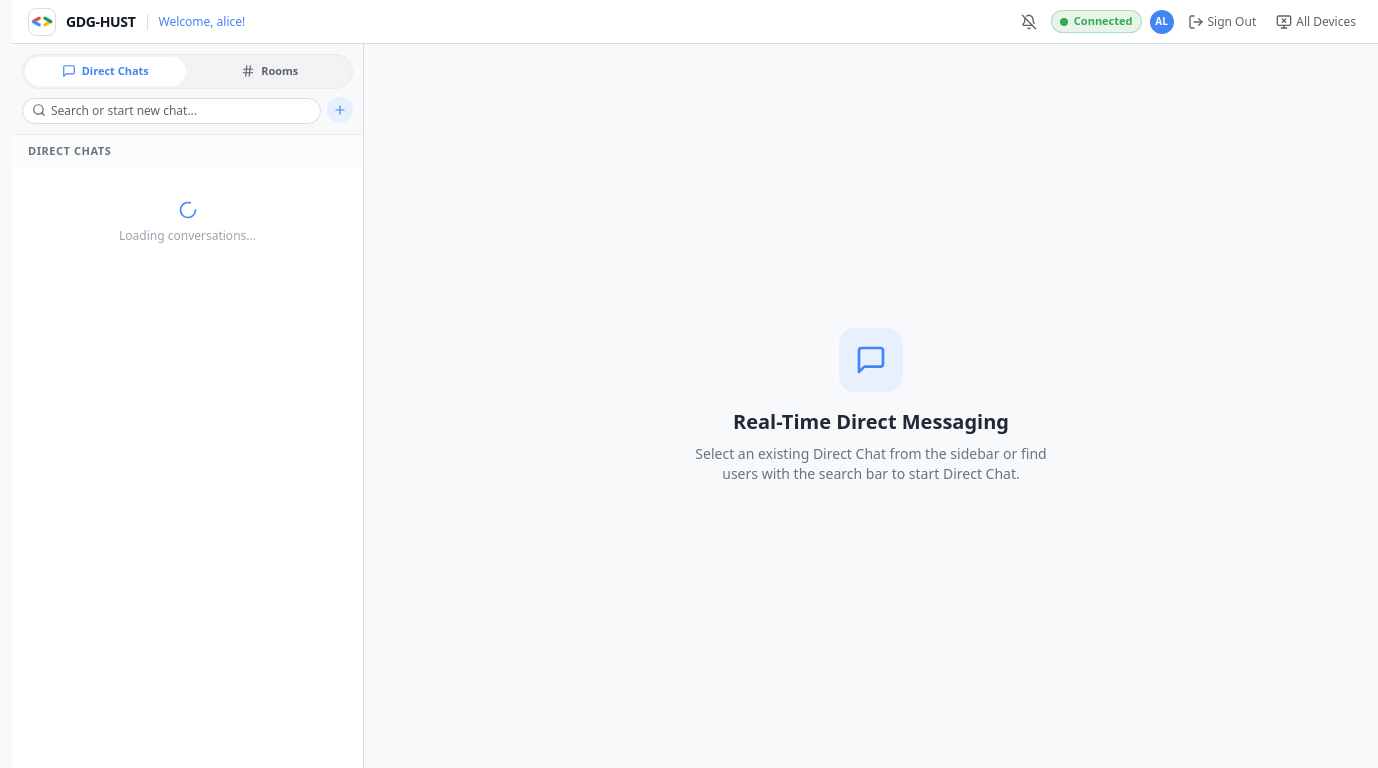
Test: Rate limit notices (SEC-07) › 429 on user search shows the wait time
Step 1. Type "car" into the field with placeholder "Search or start new chat..." → (172, 110), box 22,98 -> 321,124
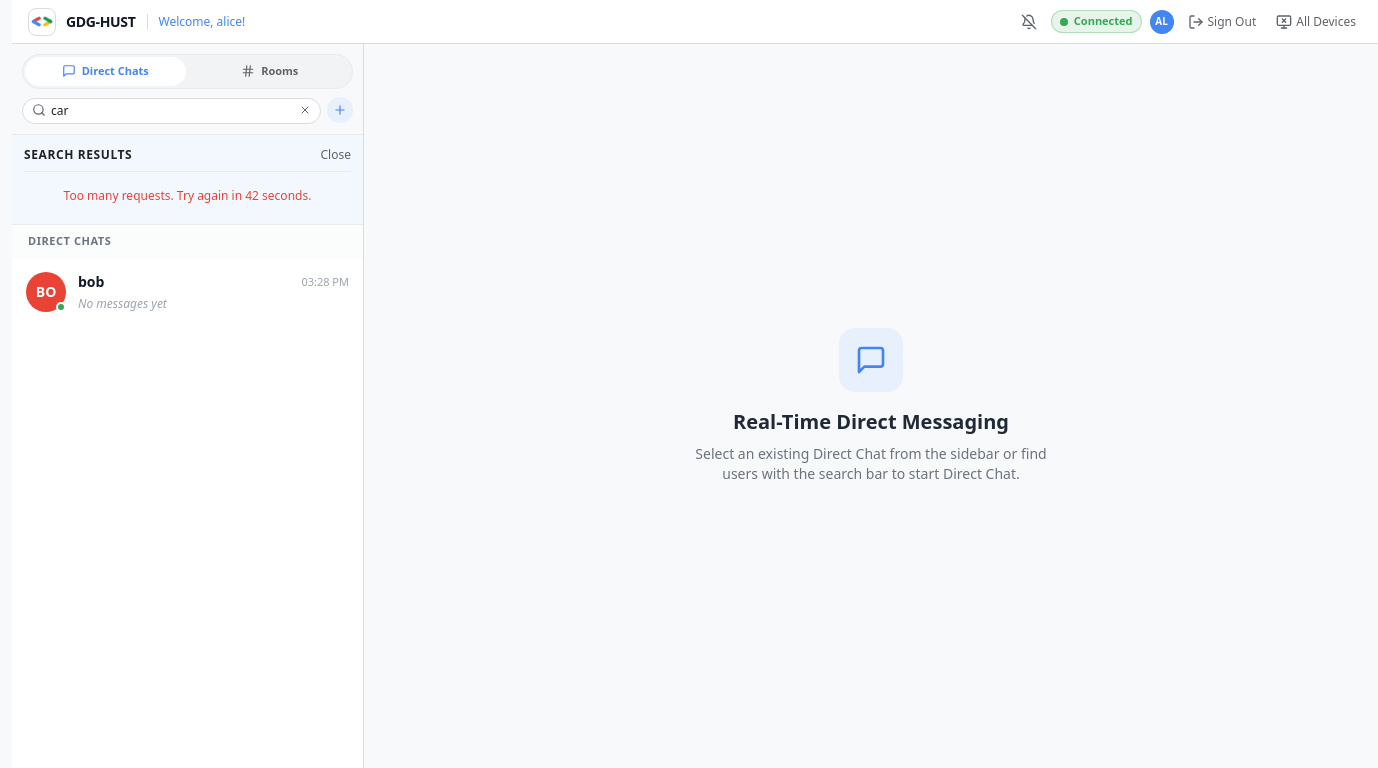
Check: the text "Too many requests. Try again in 42 seconds." is shown, box 64,186 -> 311,204
